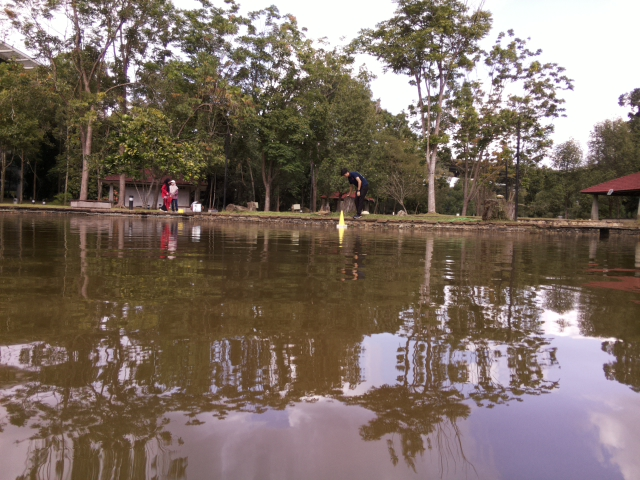checkpoint: (335, 209, 349, 229)
